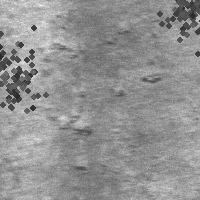rolled-in_scale: (32, 40, 93, 172), (0, 5, 51, 107), (0, 43, 50, 115), (147, 0, 200, 48), (153, 0, 200, 45), (105, 65, 167, 99)
